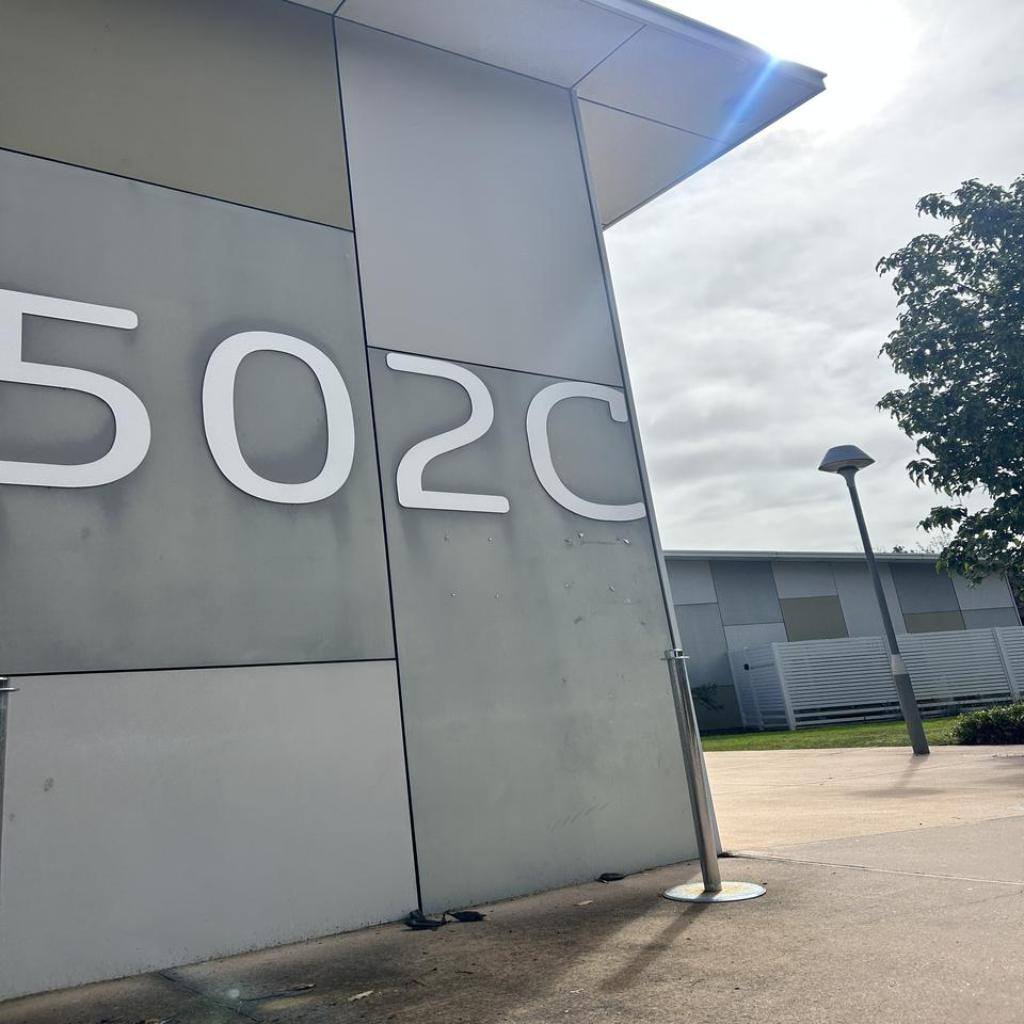BuildingCodes: (0, 286, 654, 532)
